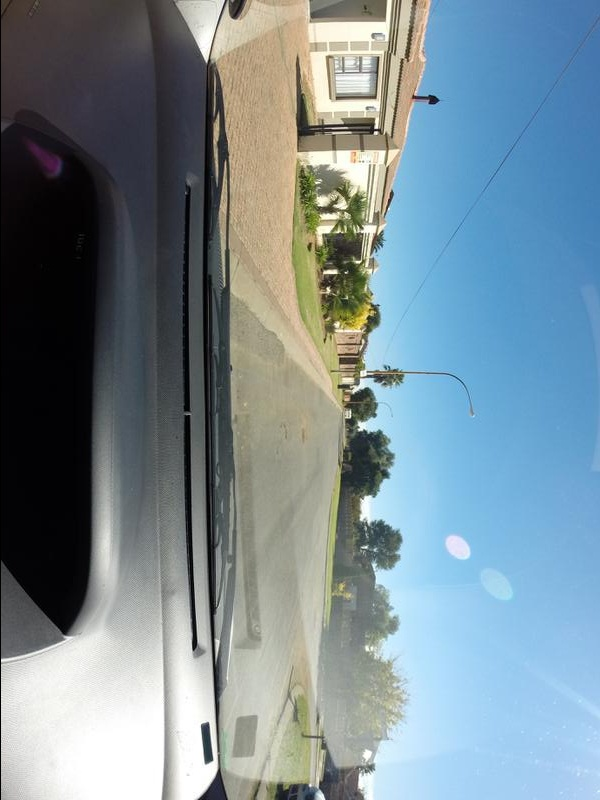pothole: (293, 422, 313, 460)
